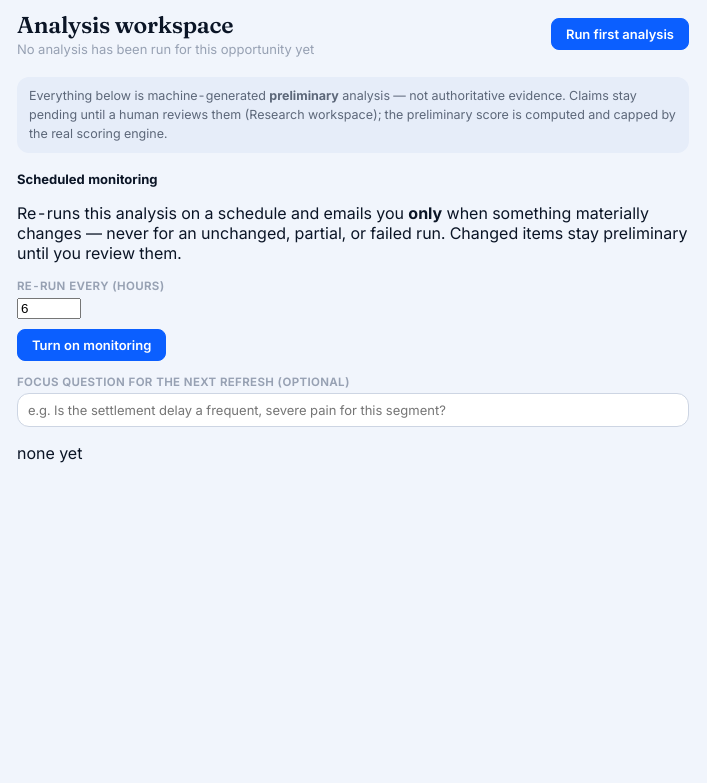
Scenario: WorkspacePanel (Phase R5 PR4-UI) › refresh posts to the refresh route and shows the honest running state
Expected: the text "none yet" is shown, [17,443,82,463]
Type "focus here" into the field with test id "workspace-question" at point(353, 410), box [17,393,689,427]
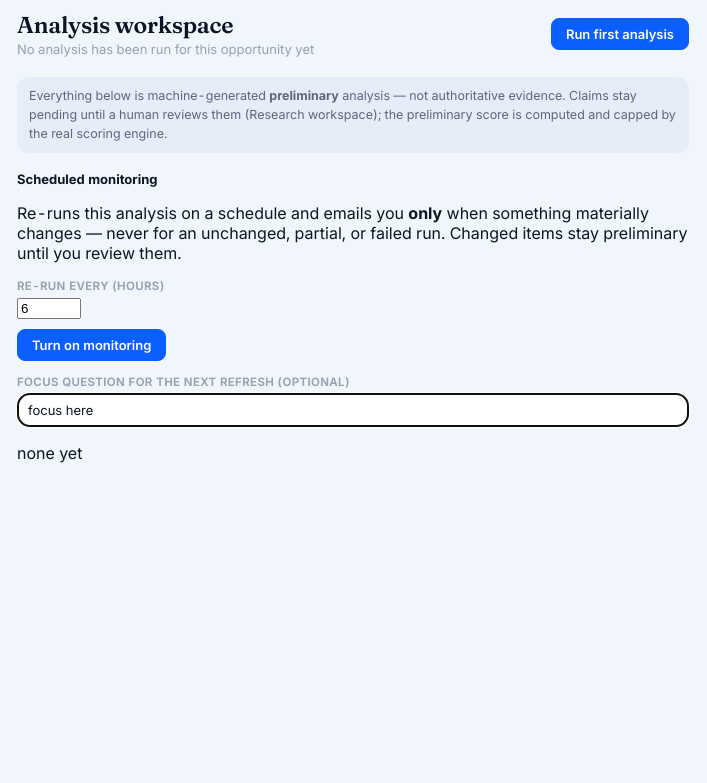
Click the button with test id "refresh-analysis" at point(620, 34), box [551,18,689,50]
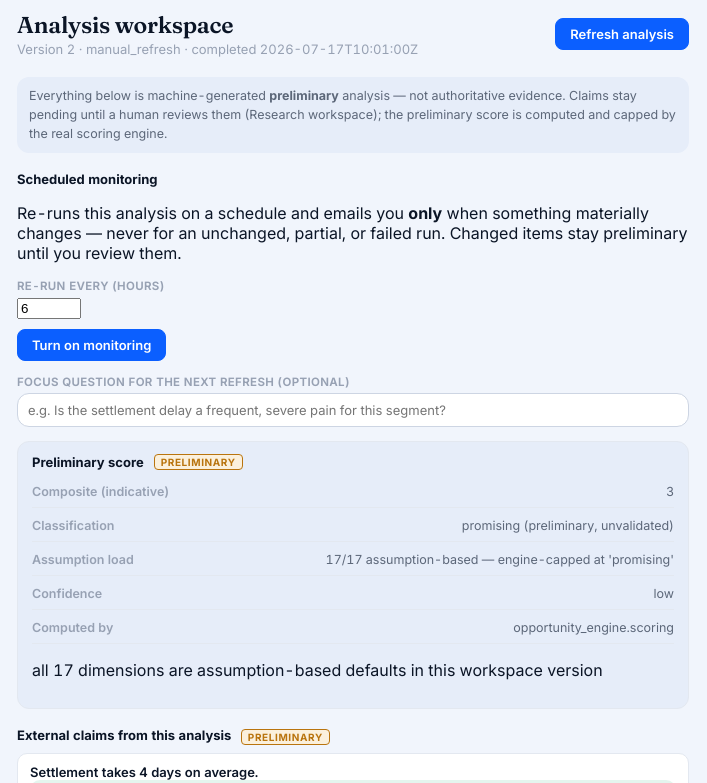
Result: the element with test id "workspace-score" is shown at [17,441,689,709]
